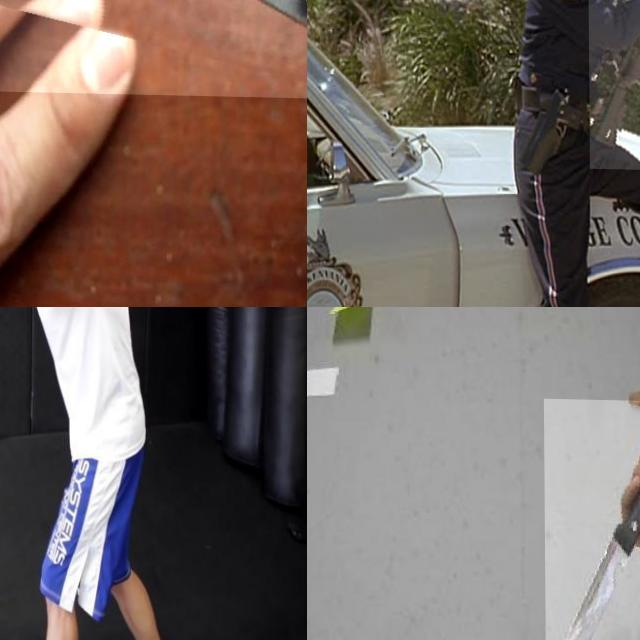-: (0, 0, 307, 200), (544, 396, 640, 640), (0, 307, 50, 374)
gun-knife-thesis - v11 Yolov5 augmented: (587, 0, 640, 169)
